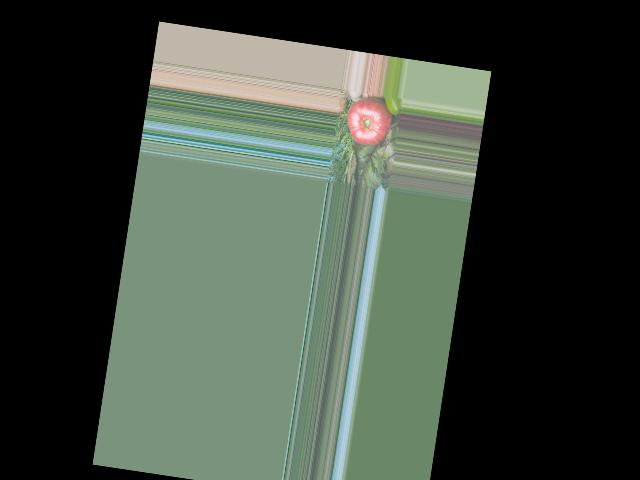tomato: (343, 93, 395, 148)
